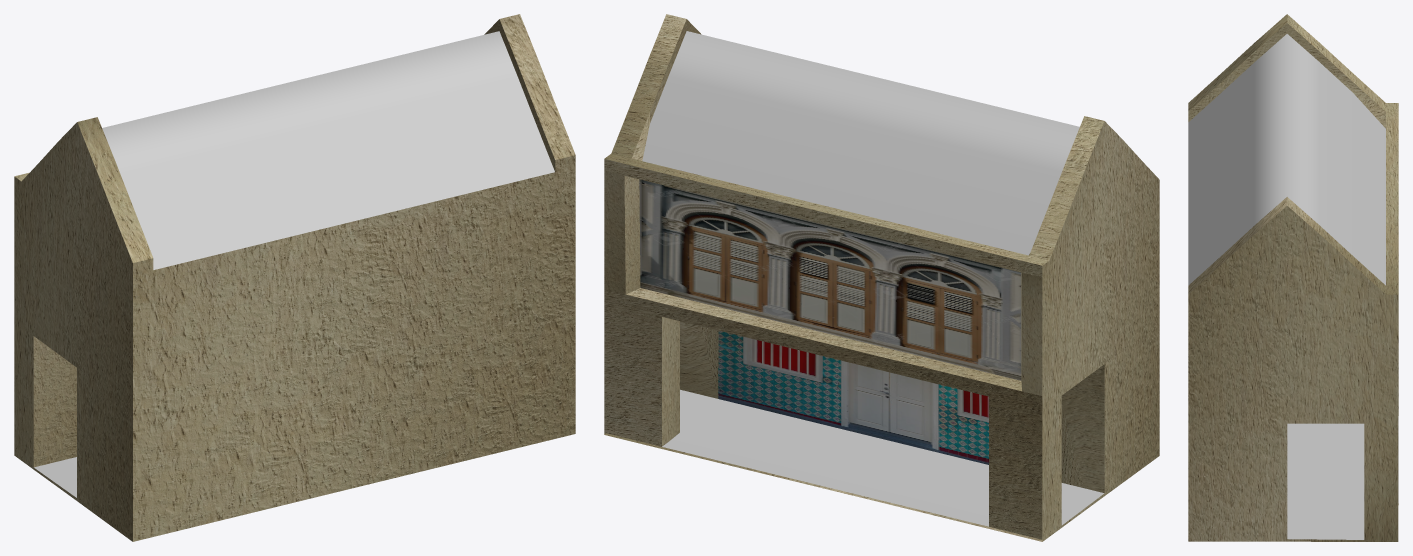
Rendered from biggershophouse.fbx.
3 views of the same model, side by side, from view 1: azimuth 30°, elevation 25°; view 2: azimuth 150°, elevation 25°; view 3: azimuth 270°, elevation 25° (orthographic). The views are drawn at different scales.
Parts seen in each view (by area): view 1: Shophouse19; view 2: Shophouse19; view 3: Shophouse19.
Boxes of the visible parts, bbox=[...] form: Shophouse19: bbox=[14, 14, 575, 541]; Shophouse19: bbox=[604, 14, 1159, 541]; Shophouse19: bbox=[1188, 14, 1398, 541].
Bounding box in the file's own units: 880 × 721 × 408.
